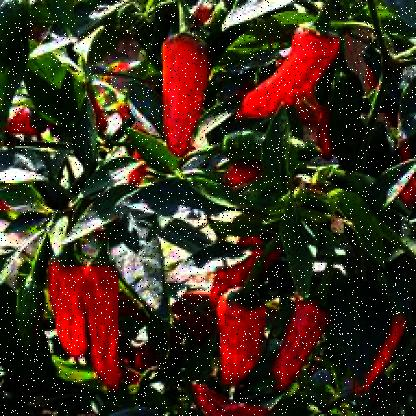chili: (236, 23, 348, 121), (148, 36, 214, 156), (44, 244, 97, 364), (270, 292, 333, 391), (84, 267, 134, 389), (212, 286, 263, 385)
